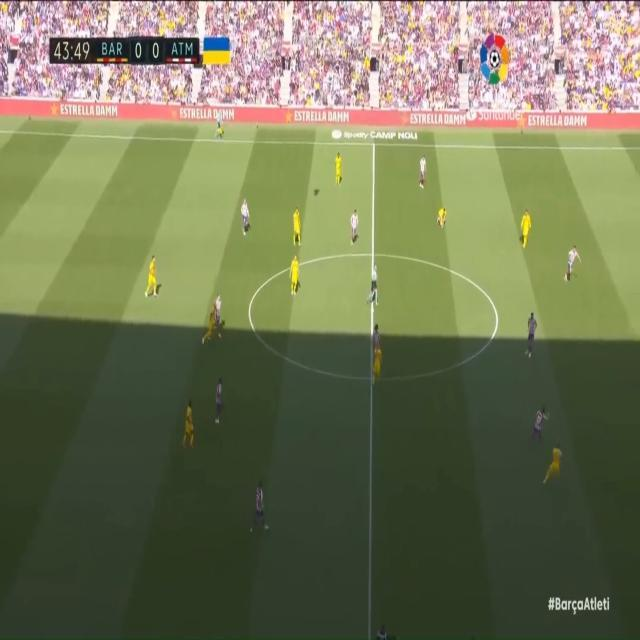player: (248, 477, 270, 541), (524, 399, 544, 460), (543, 441, 563, 495), (562, 238, 582, 291), (199, 305, 219, 353), (523, 309, 540, 364), (369, 316, 386, 369), (180, 397, 196, 451), (371, 340, 386, 393), (145, 253, 160, 304), (215, 286, 232, 329), (213, 378, 228, 425), (289, 254, 302, 302), (292, 203, 305, 249), (520, 207, 533, 253), (239, 196, 252, 239), (419, 151, 430, 192), (348, 209, 360, 246), (436, 202, 448, 237), (334, 151, 345, 189)
referee: (366, 264, 382, 310), (215, 110, 225, 147)
